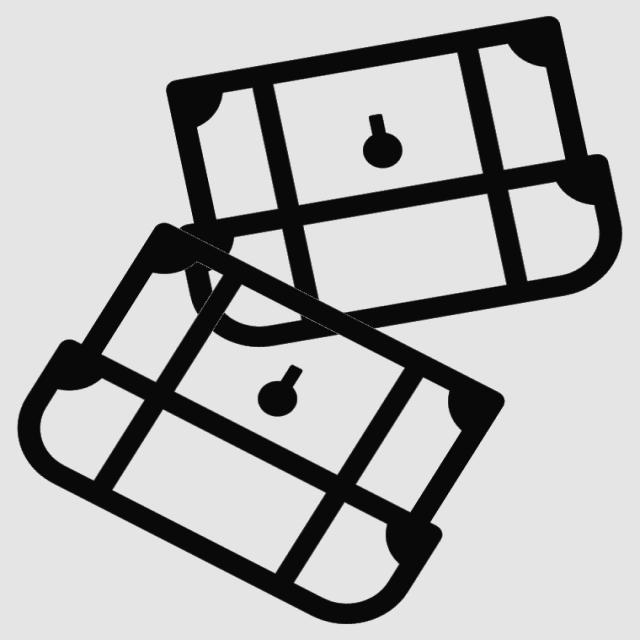treasure_box: (11, 213, 524, 632), (156, 9, 629, 352)
